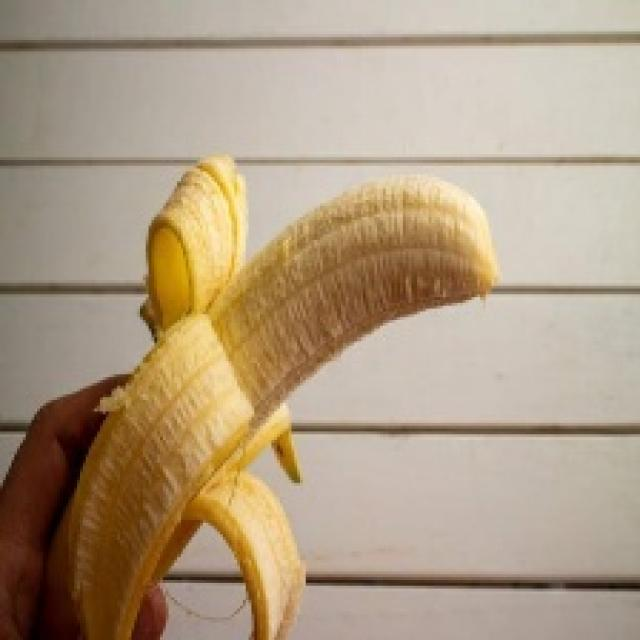Banana: (40, 152, 500, 637)
